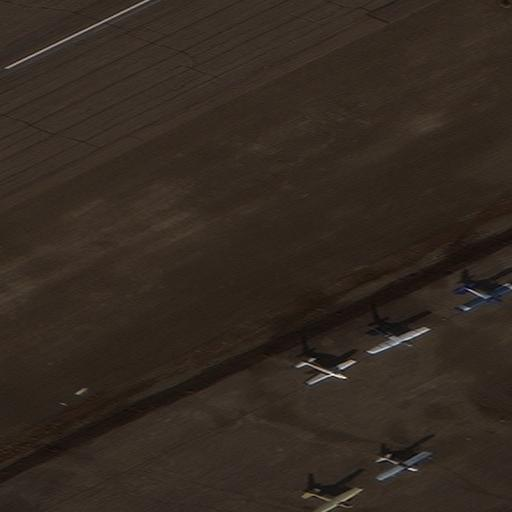Small Civil Transport: (368, 326, 431, 354), (299, 359, 358, 385), (379, 453, 432, 481), (461, 284, 512, 312), (306, 488, 364, 511)
